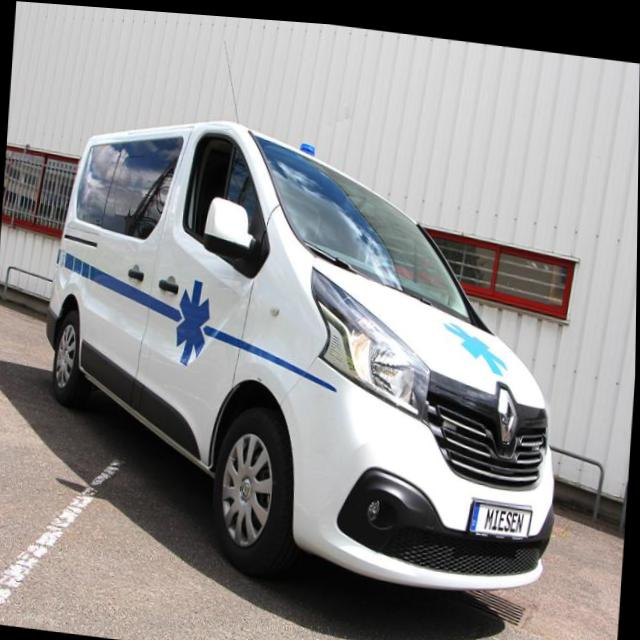ambulance: (35, 94, 579, 617)
